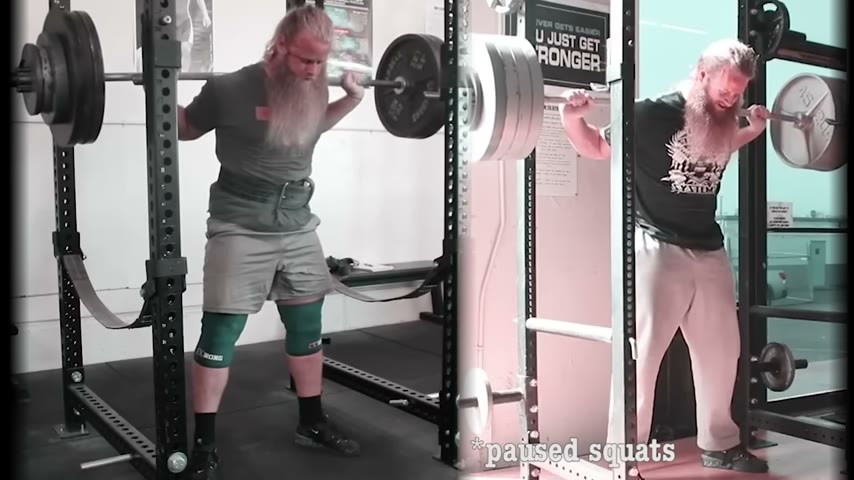barbell_plate_side: (2, 1, 110, 155)
